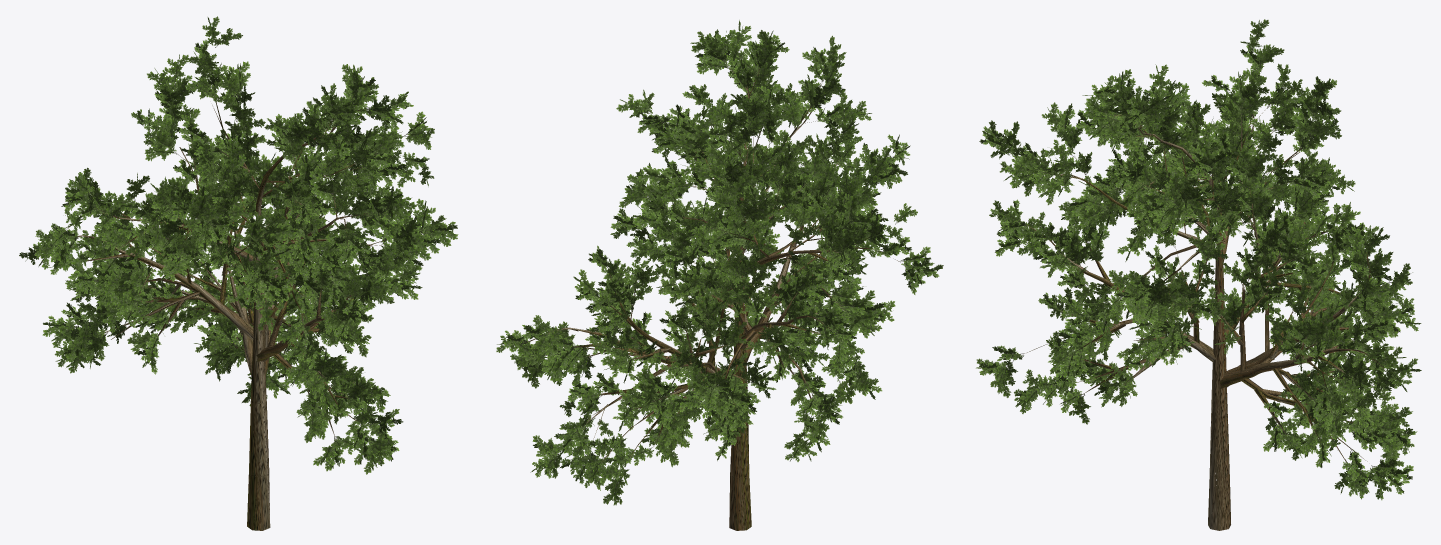
The model's file is tree (7).glb.
3 views of the same model, side by side, from view 1: azimuth 30°, elevation 25°; view 2: azimuth 150°, elevation 25°; view 3: azimuth 270°, elevation 25° (orthographic). The views are drawn at different scales.
Parts seen in each view (by area): view 1: Tree; view 2: Tree; view 3: Tree.
Part boxes in pixels (x1,y1,x2,y2): Tree: (19, 16, 458, 530); Tree: (496, 20, 943, 530); Tree: (976, 19, 1421, 530).
Bounding box in the file's own units: 52.63 × 64.73 × 53.53.
2 materials, 2 textured.
